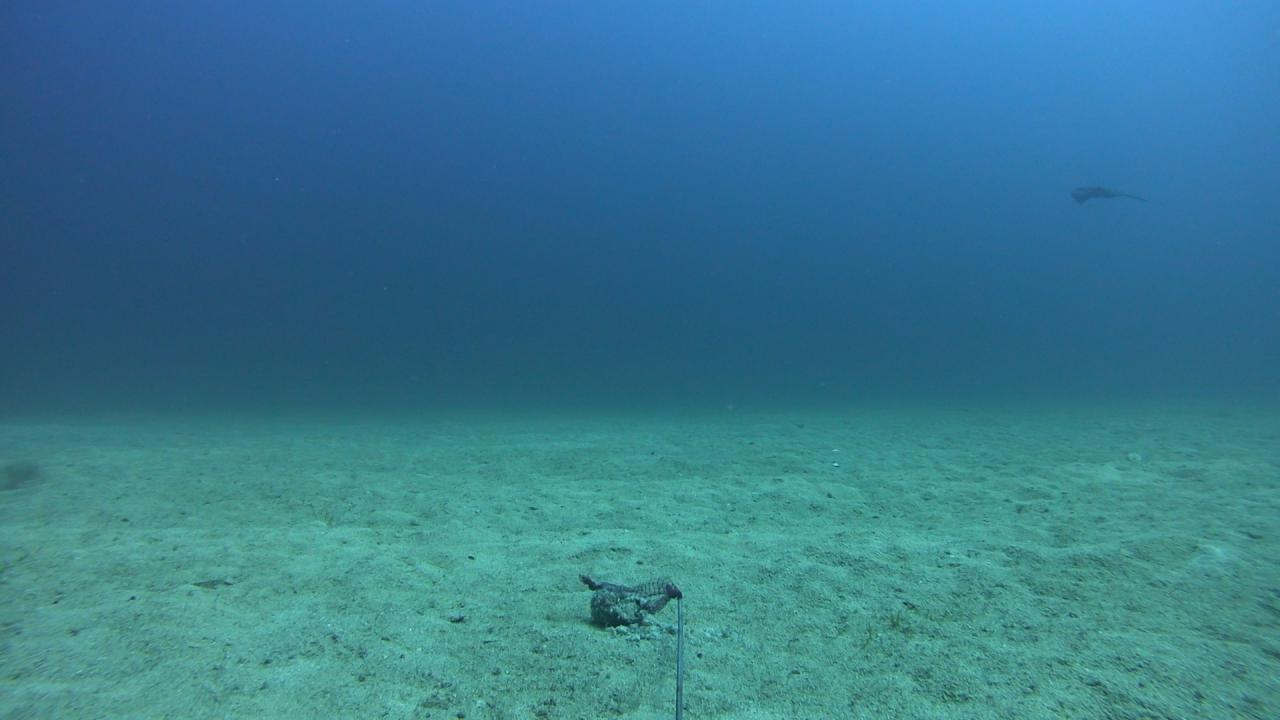dasyatis: (1068, 184, 1146, 206)
